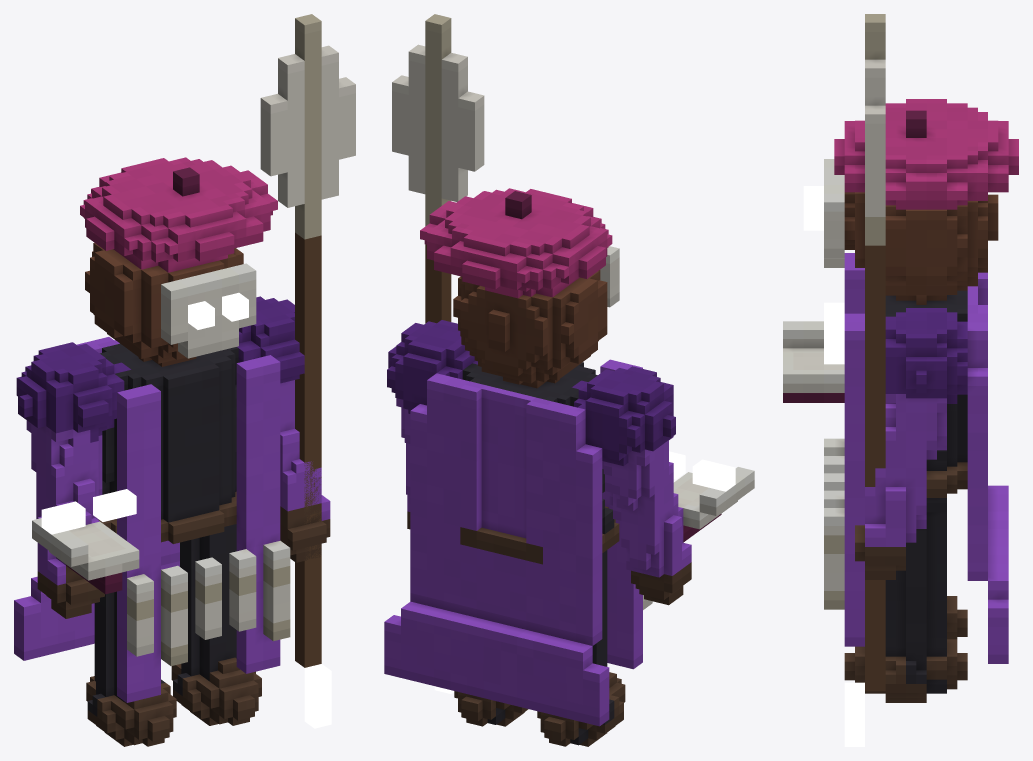
File: u_oracle__tidiane.glb
3 renders of one model, left to right at view 1: azimuth 30°, elevation 25°; view 2: azimuth 150°, elevation 25°; view 3: azimuth 270°, elevation 25°, orthographic. The views are drawn at different scales.
Visible parts, largest first — view 1: oracle_body, oracle_weapon, oracle_glow, oracle_weaponglow; view 2: oracle_body, oracle_weapon, oracle_glow; view 3: oracle_body, oracle_weapon, oracle_glow, oracle_weaponglow.
Boxes of the visible parts, x1=… form: oracle_body: x1=14, y1=157, x2=330, y2=746; oracle_weapon: x1=260, y1=14, x2=355, y2=667; oracle_glow: x1=41, y1=292, x2=248, y2=534; oracle_weaponglow: x1=304, y1=664, x2=331, y2=728; oracle_body: x1=384, y1=188, x2=754, y2=746; oracle_weapon: x1=392, y1=14, x2=484, y2=323; oracle_glow: x1=669, y1=451, x2=735, y2=491; oracle_body: x1=783, y1=99, x2=1018, y2=702; oracle_weapon: x1=865, y1=14, x2=885, y2=691; oracle_glow: x1=803, y1=186, x2=844, y2=364; oracle_weaponglow: x1=844, y1=682, x2=864, y2=746.
Size of the model in its own units: 0.95 by 1.95 by 0.575.
